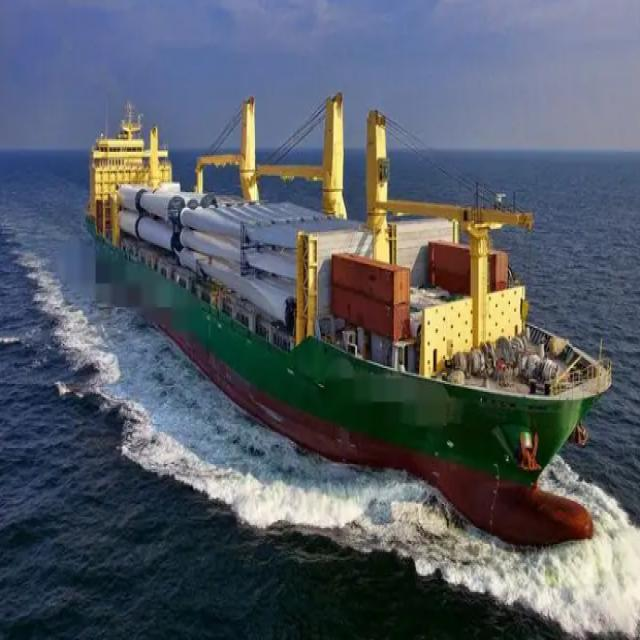cargoship: (80, 90, 609, 532)
